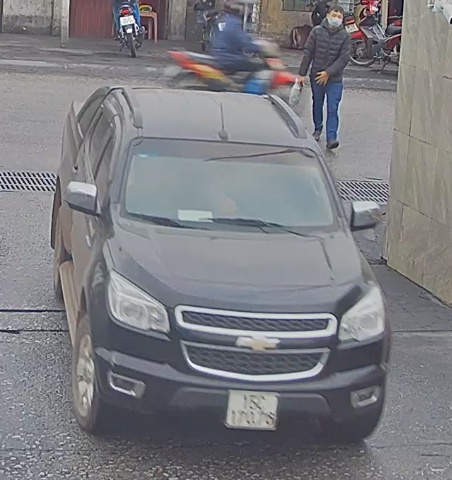vehicle plate: (225, 385, 277, 430)
